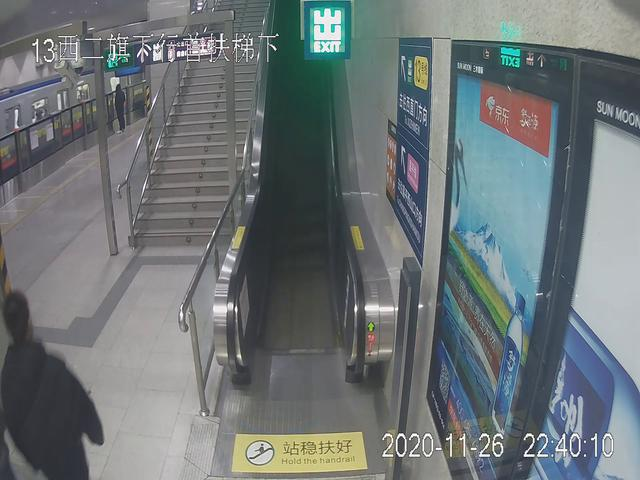person: (1, 285, 99, 480), (109, 83, 132, 134)
